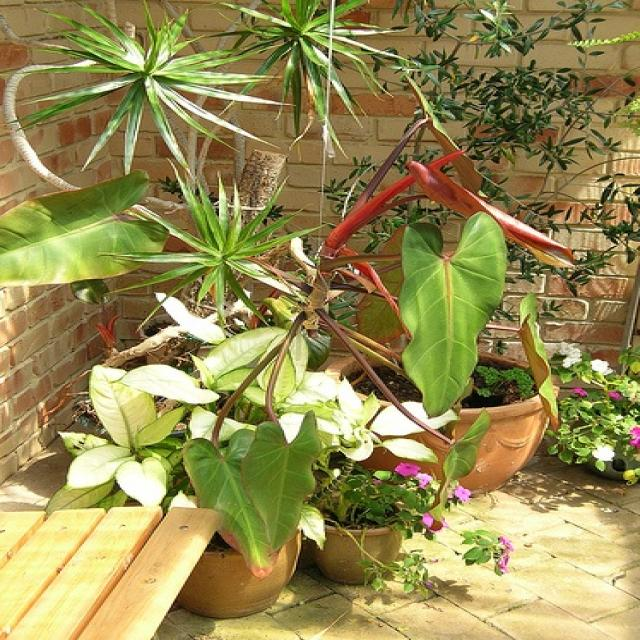pottedplant: (320, 1, 558, 503), (61, 366, 316, 621), (308, 462, 515, 585)
